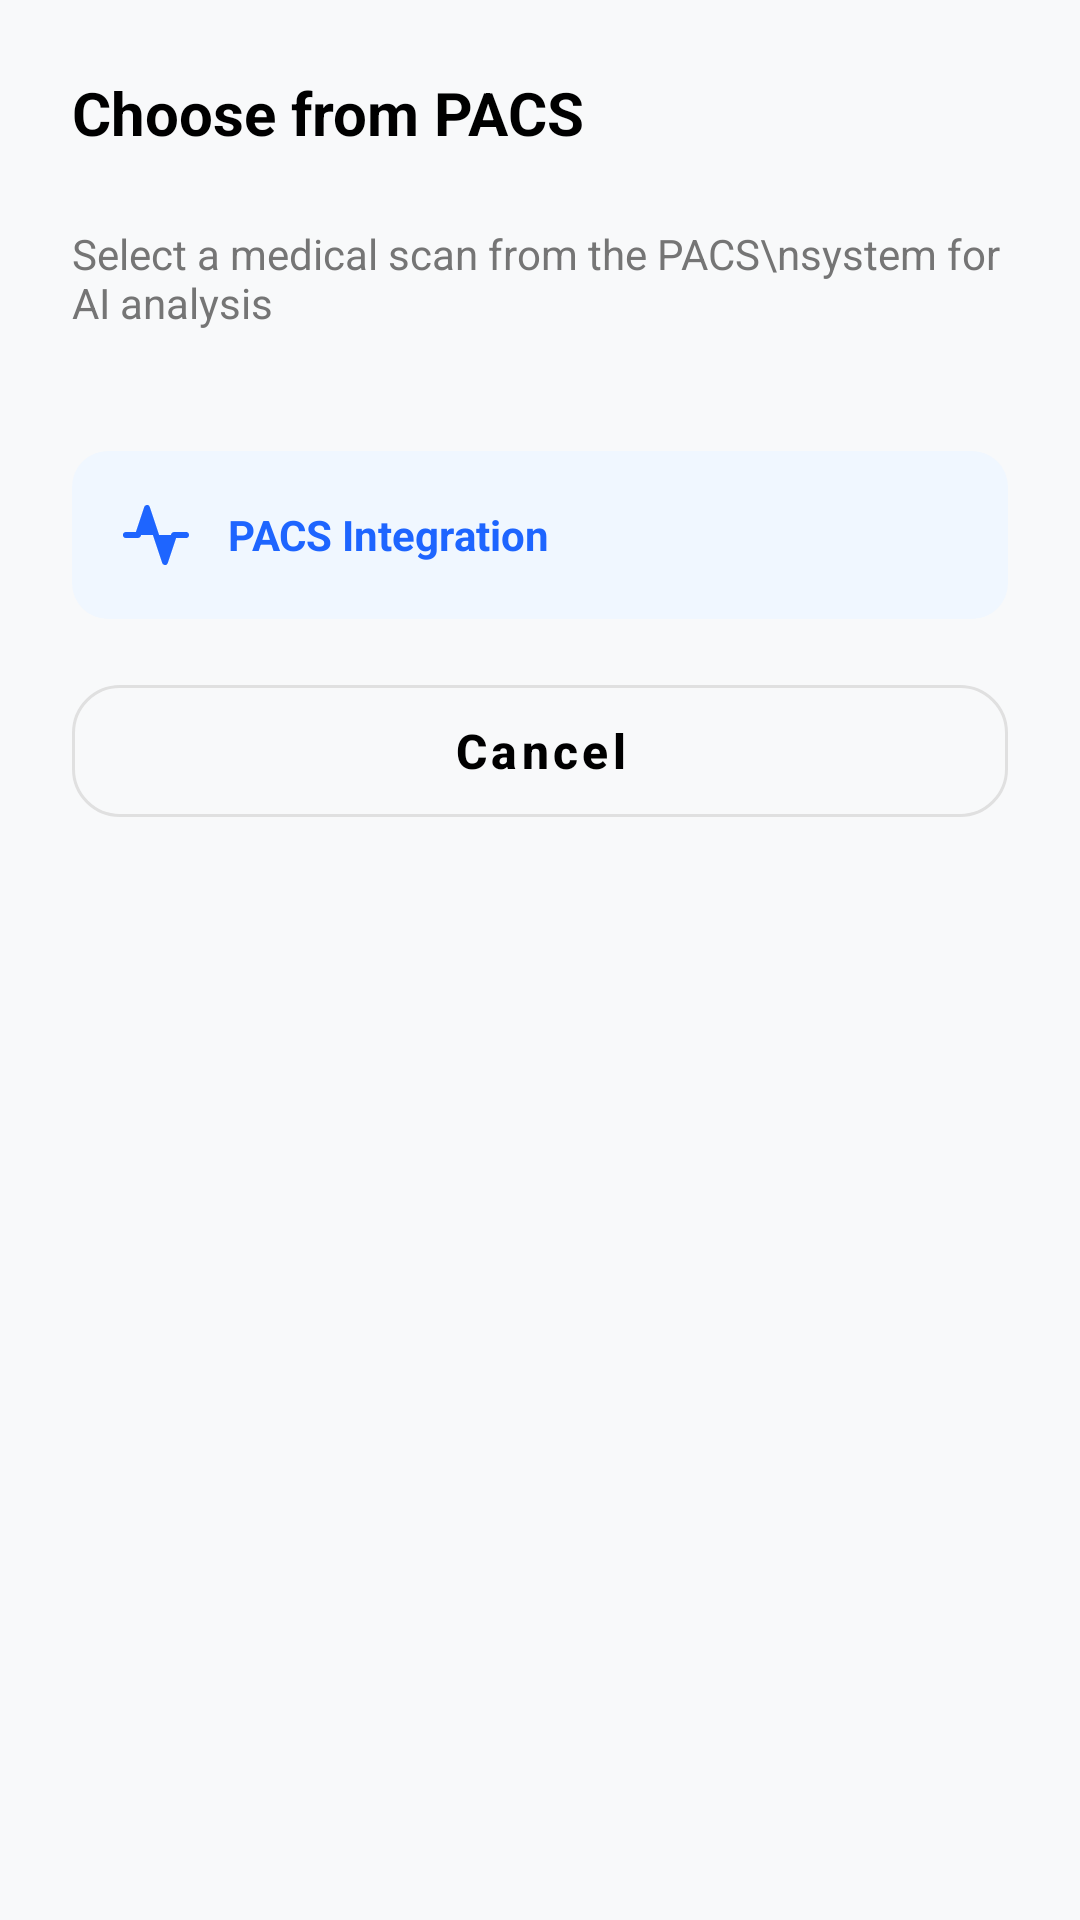

Icon bounding boxes for this 1080 x 1920 phone screenshot, format (x1, y1, x2, y2):
activity: (123, 505, 189, 565)
